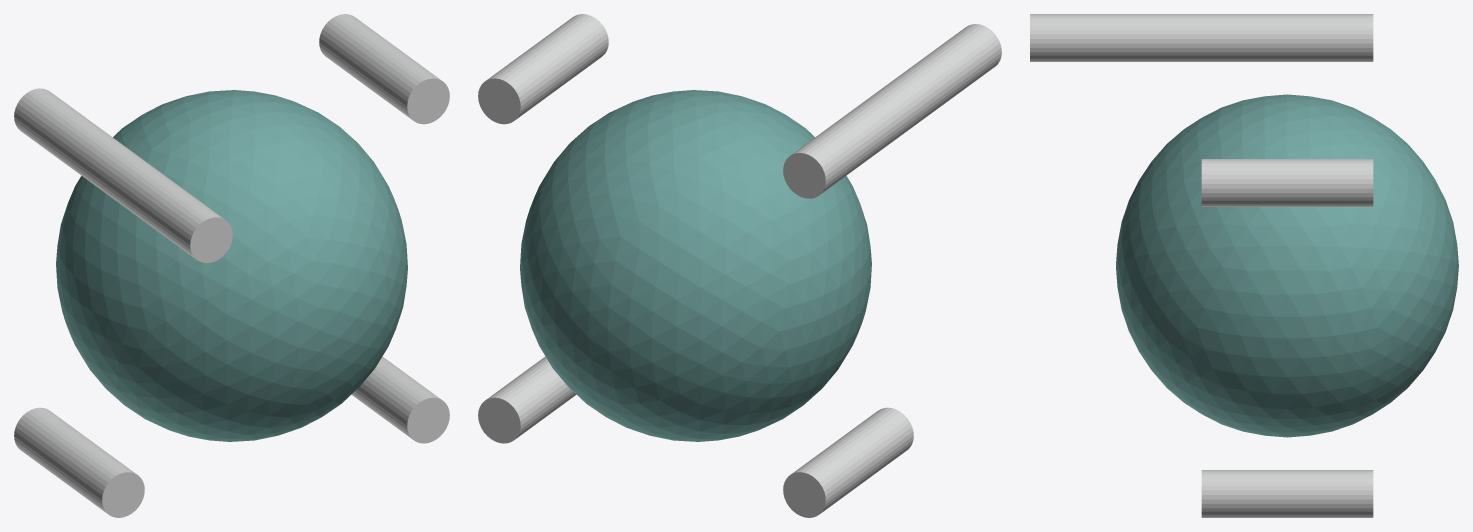
Rendered from bird.glb.
The picture shows the model from 3 angles, left to right: view 1: azimuth 30°, elevation 25°; view 2: azimuth 150°, elevation 25°; view 3: azimuth 270°, elevation 25°; orthographic projection. The views are drawn at different scales.
Visible parts, largest first — view 1: body, eye_2_1, leg_5_0, crest marks_3_2, head_0_0, leg_5_1; view 2: body, head_0_0, eye_2_1, leg_5_0, crest marks_3_2, leg_5_1; view 3: body, head_0_0, eye_2_1, leg_5_1, crest marks_3_2.
Boxes of the visible parts, left/top/right/bottom form: body: left=56, top=90, right=407, bottom=441; eye_2_1: left=319, top=14, right=449, bottom=124; leg_5_0: left=14, top=407, right=144, bottom=517; crest marks_3_2: left=102, top=153, right=232, bottom=263; head_0_0: left=14, top=88, right=136, bottom=194; leg_5_1: left=351, top=356, right=449, bottom=443; body: left=520, top=90, right=871, bottom=441; head_0_0: left=783, top=88, right=913, bottom=198; eye_2_1: left=478, top=14, right=608, bottom=124; leg_5_0: left=783, top=407, right=913, bottom=517; crest marks_3_2: left=879, top=24, right=1001, bottom=129; leg_5_1: left=478, top=356, right=576, bottom=443; body: left=1116, top=94, right=1458, bottom=437; head_0_0: left=1201, top=14, right=1373, bottom=61; eye_2_1: left=1201, top=159, right=1373, bottom=206; leg_5_1: left=1201, top=470, right=1373, bottom=517; crest marks_3_2: left=1030, top=14, right=1201, bottom=61.
Bounding box in the file's own units: 0.456 × 0.456 × 0.5.
